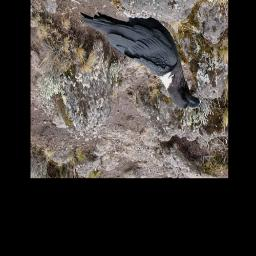Crow: (78, 9, 201, 110)
